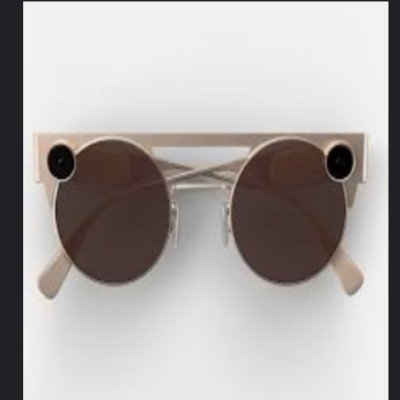glasses: (30, 123, 372, 308)
